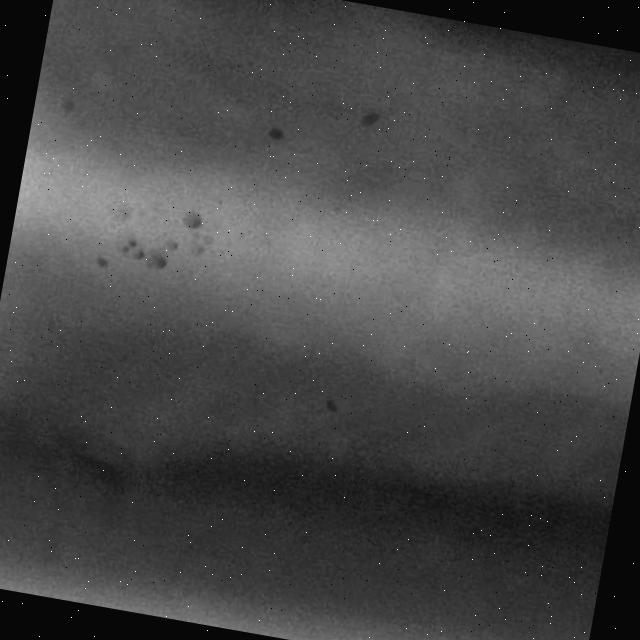Pore: (74, 182, 219, 298), (250, 112, 294, 150), (52, 82, 85, 124), (311, 384, 348, 416), (357, 102, 381, 139)
